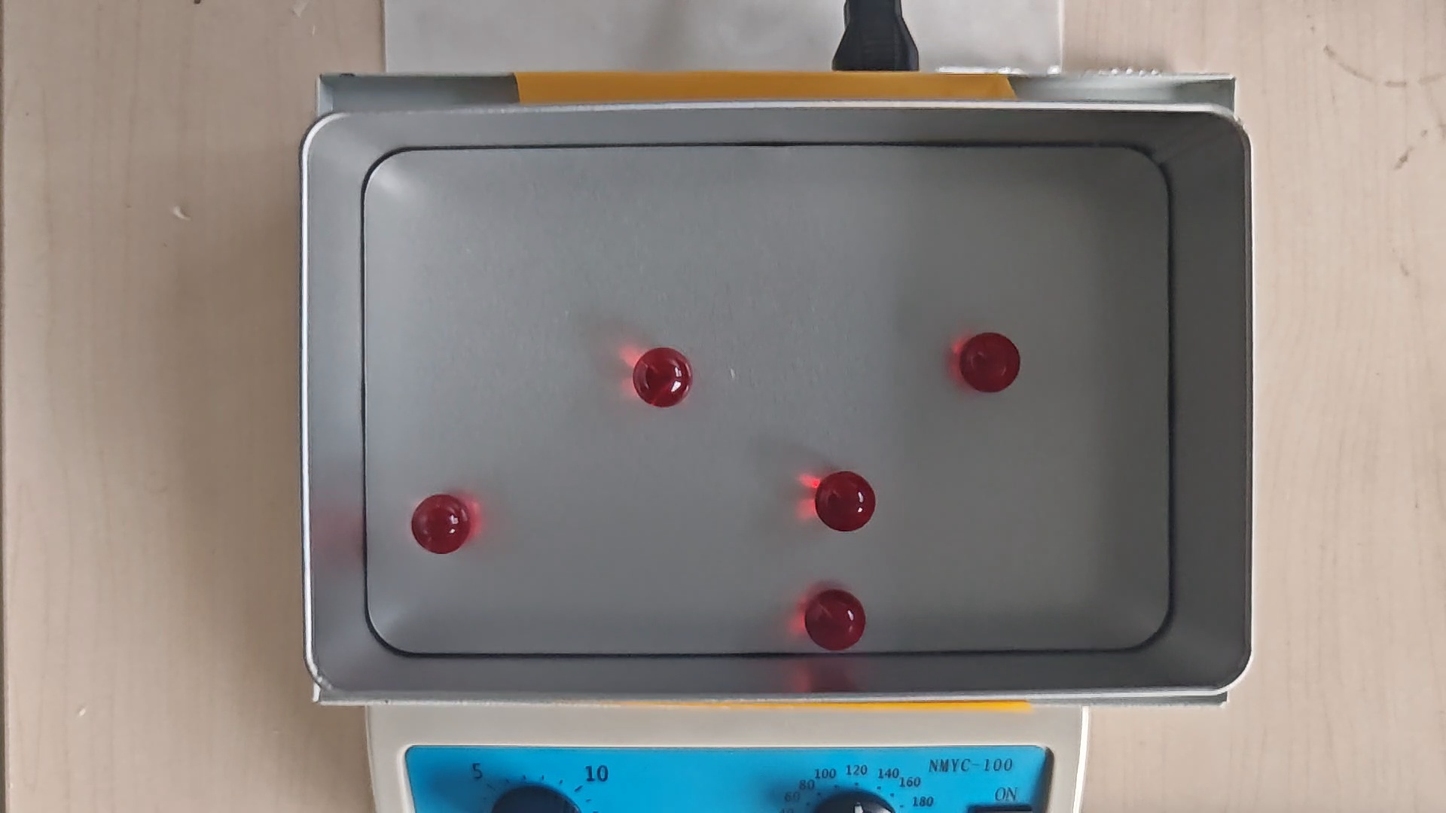ball: (817, 470, 875, 534), (633, 347, 691, 409), (963, 332, 1020, 393), (413, 493, 468, 556), (808, 592, 864, 652)
container: (363, 141, 1173, 656)
